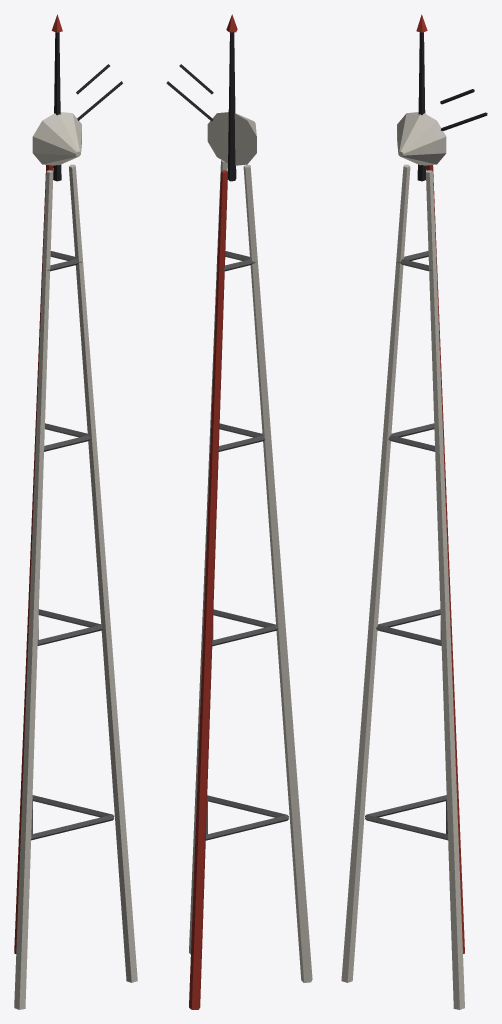
File: antenna_mast_01.glb
The picture shows the model from 3 angles, left to right: view 1: azimuth 30°, elevation 25°; view 2: azimuth 150°, elevation 25°; view 3: azimuth 330°, elevation 25°; orthographic projection.
Visible parts, largest first — view 1: antenna_mast_01; view 2: antenna_mast_01; view 3: antenna_mast_01.
Boxes of the visible parts, box(x1,y1,x2,y2) form: antenna_mast_01: box(14, 14, 137, 1009); antenna_mast_01: box(166, 14, 312, 1009); antenna_mast_01: box(341, 14, 487, 1009).
Size of the model in its own units: 0.9769 by 7.12 by 0.8223.
4 materials, 4 textured.
